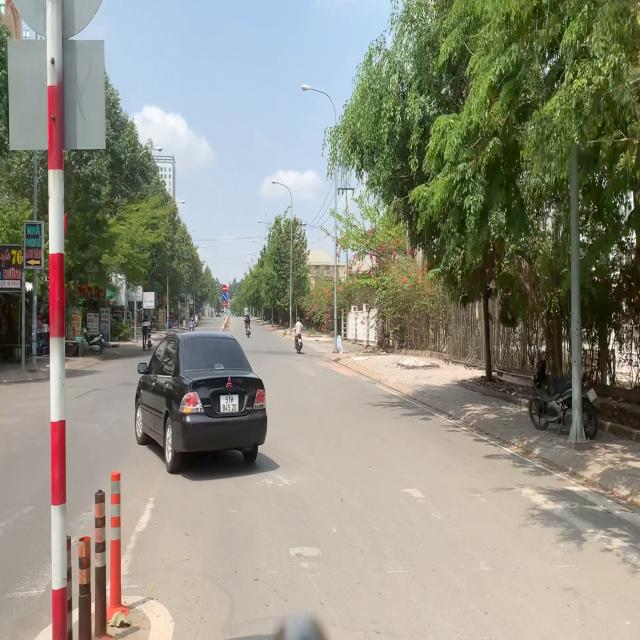Cam nguoc chieu: (222, 284, 227, 292)
Hieu lenh: (222, 292, 227, 301)
